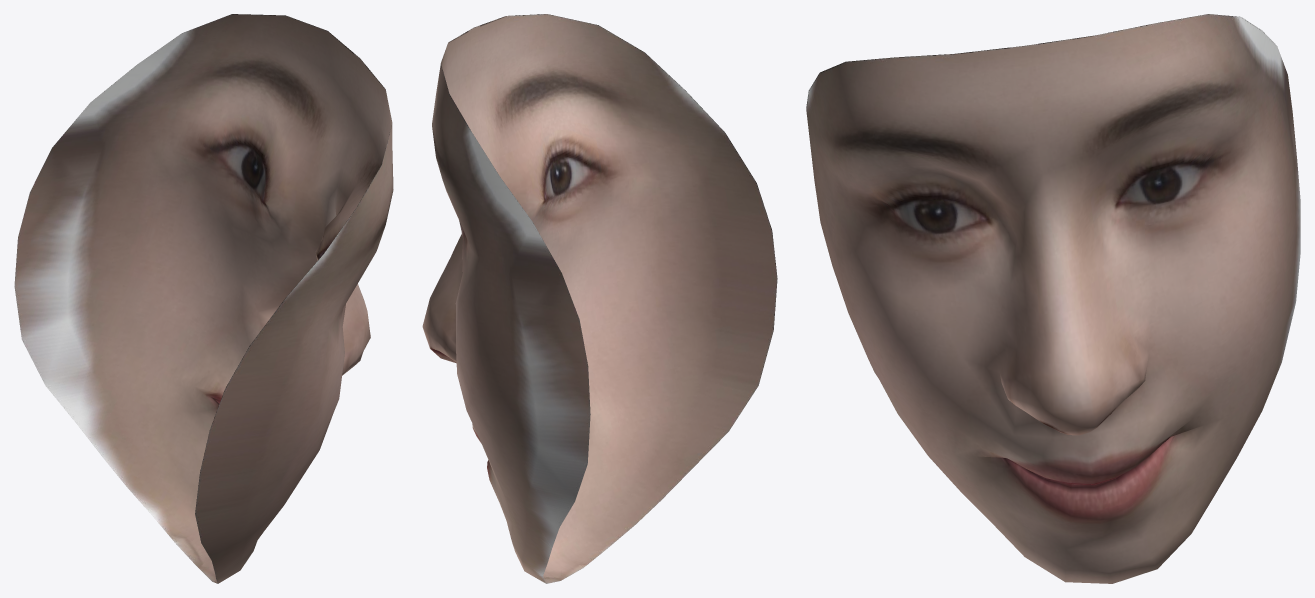
File: xiaohongshu_beauty.glb
3 renders of one model, left to right at view 1: azimuth 30°, elevation 25°; view 2: azimuth 150°, elevation 25°; view 3: azimuth 270°, elevation 25°, orthographic. The views are drawn at different scales.
Parts seen in each view (by area): view 1: xiaohongshu_beauty; view 2: xiaohongshu_beauty; view 3: xiaohongshu_beauty.
Boxes of the visible parts, x1=… form: xiaohongshu_beauty: x1=14, y1=14, x2=393, y2=583; xiaohongshu_beauty: x1=422, y1=14, x2=777, y2=583; xiaohongshu_beauty: x1=806, y1=14, x2=1300, y2=583.
Bounding box in the file's own units: 0.4385 × 0.837 × 0.6067.
Materials: 1 (1 with a texture image).
